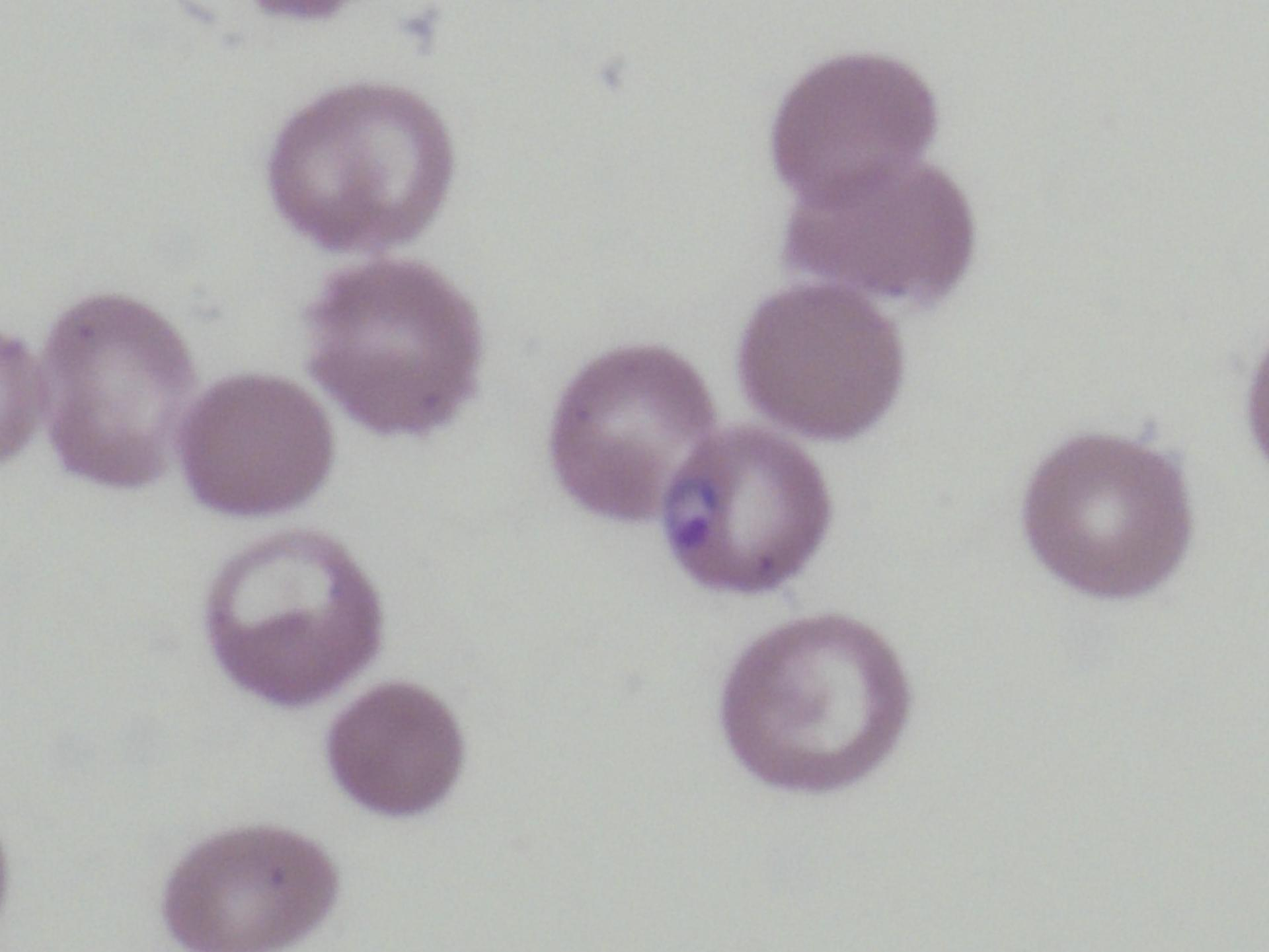Infected: (661, 421, 833, 599)
Uninfected: (723, 615, 914, 793), (40, 285, 195, 489), (546, 342, 723, 519), (308, 258, 480, 439), (203, 534, 382, 707), (784, 155, 966, 319), (269, 87, 449, 248), (1029, 435, 1190, 605), (776, 51, 940, 207), (738, 280, 897, 437), (178, 364, 336, 516), (154, 827, 339, 952), (326, 688, 463, 815)
